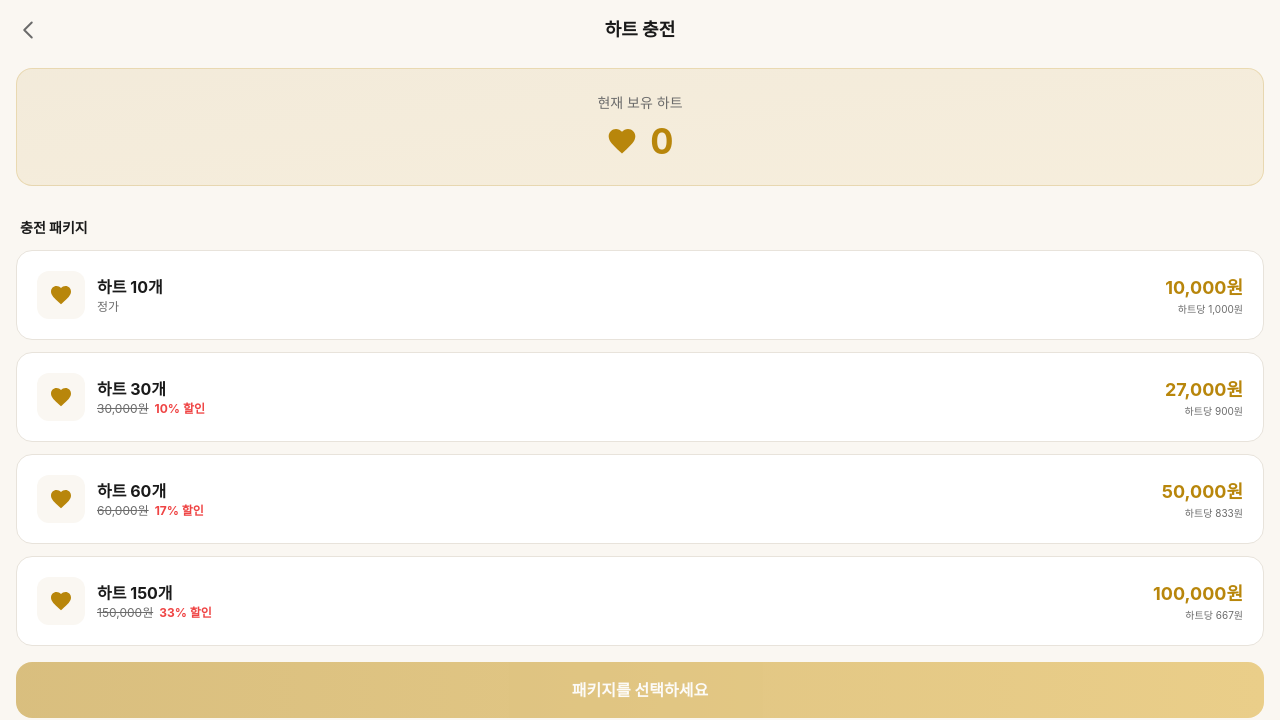
B4: 충전 화면은 서버 상품표만 그린다 › 선택한 상품의 금액은 서버 값 그대로다
Click the heading "하트 150개". click: (135, 593)
box: [97,583,173,603]
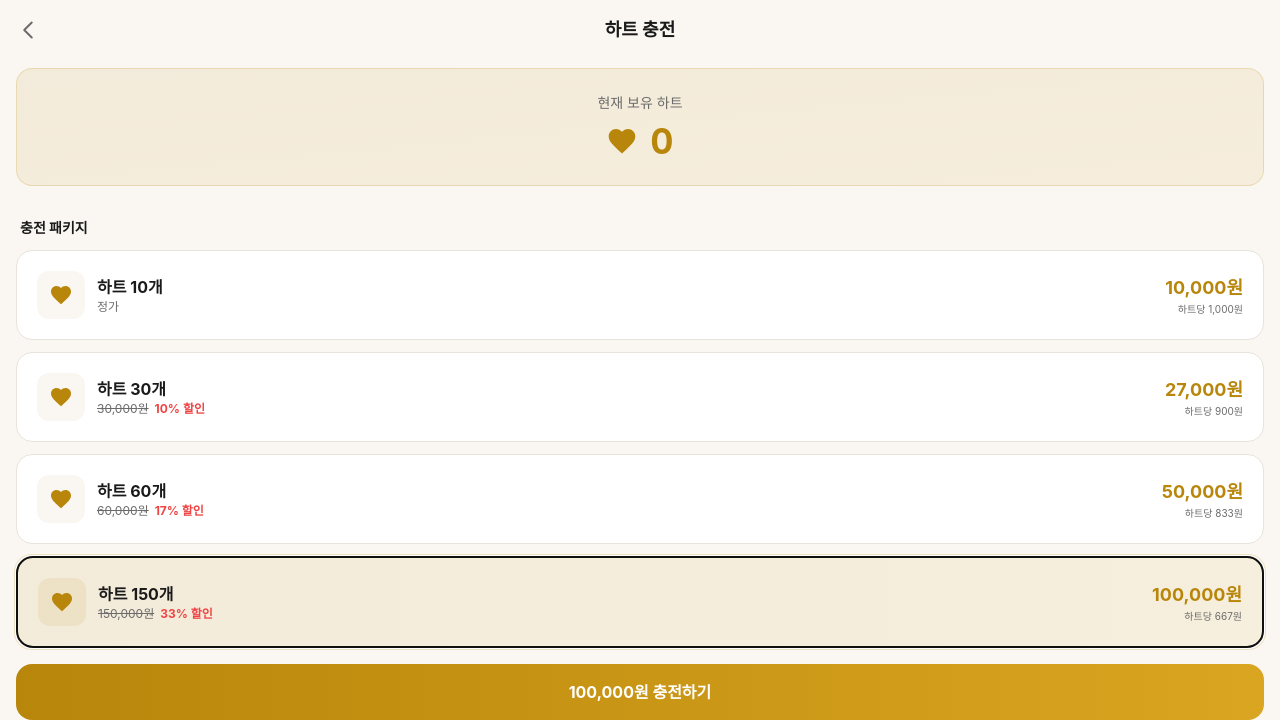
expect the button "100,000원 충전하기" is shown: met, box [16,664,1264,719]
